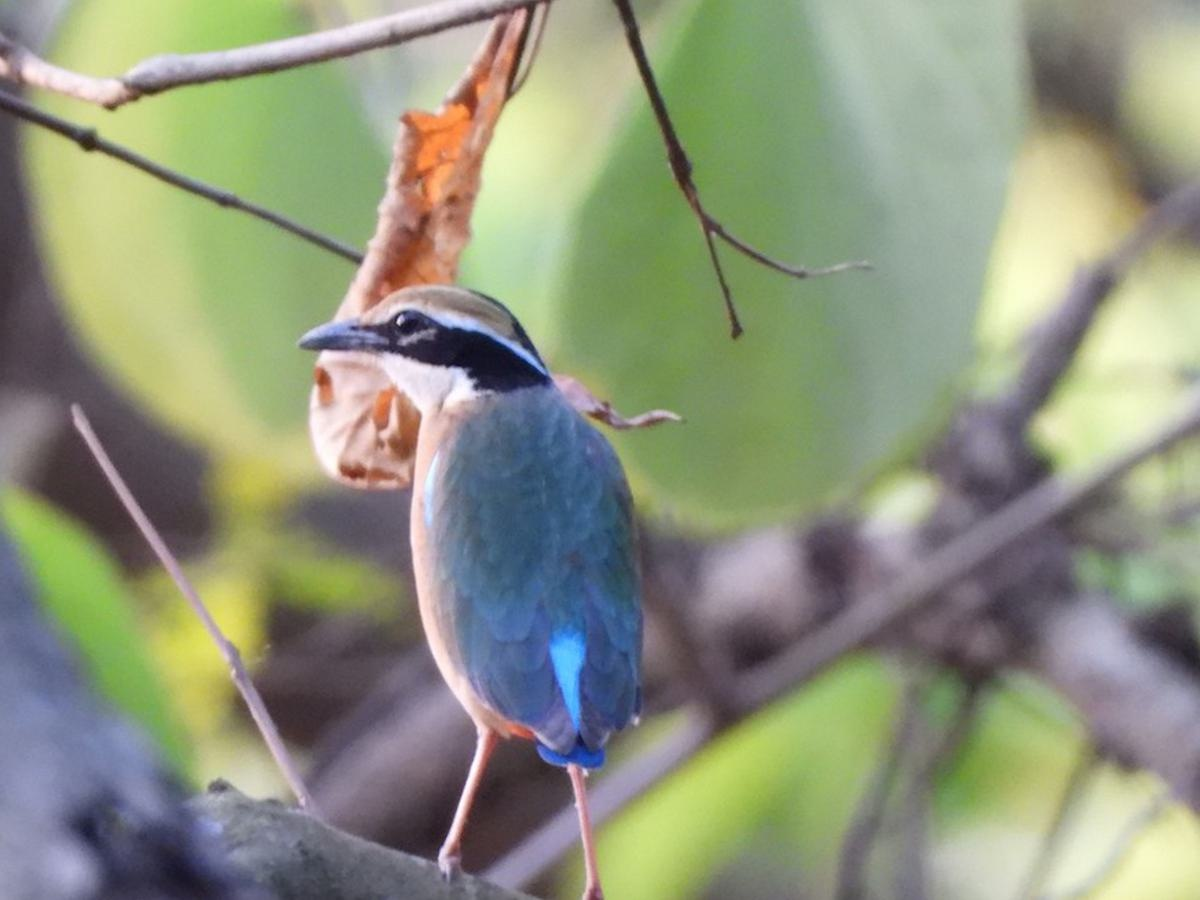pitta: (288, 271, 725, 862)
